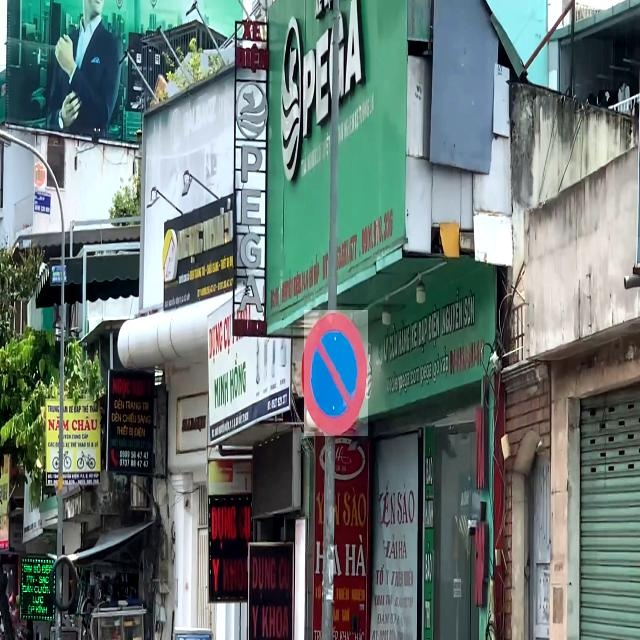bien_cam: (304, 310, 368, 436)
